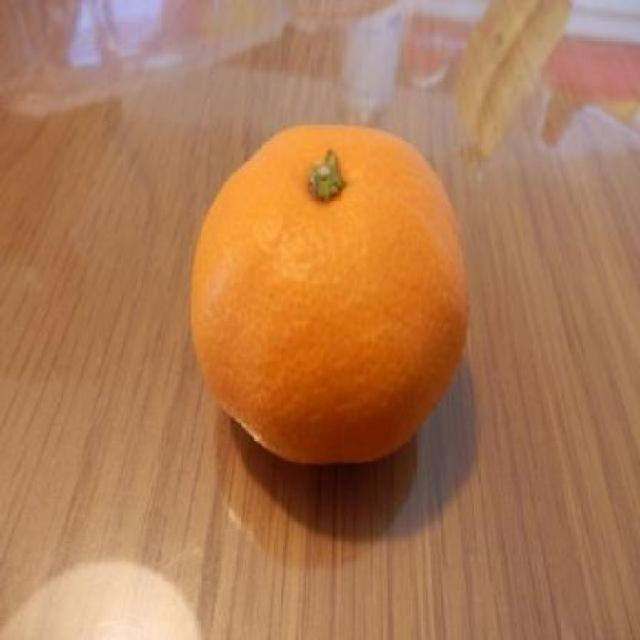Orange: (188, 120, 470, 466)
